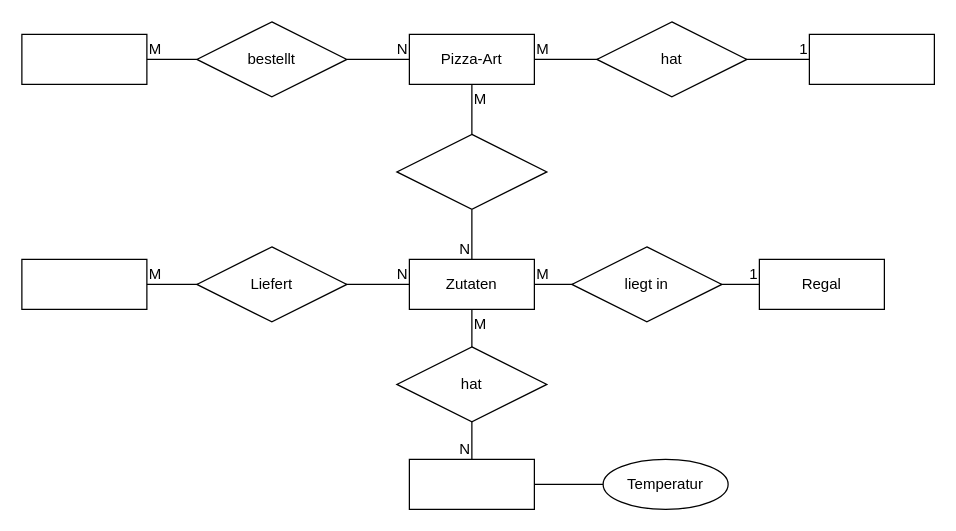
Image size: 956x531. Some labels were removed from this diagram. Each missing label, with the centre of its shape:
"Grundrezept" goes at (x=871, y=58).
"Kunde" goes at (x=84, y=58).
"Lagerbedingung" goes at (x=471, y=483).
"Lieferant" goes at (x=84, y=283).
"Wird belegt" goes at (x=471, y=171).
